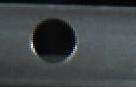holes: (30, 17, 79, 65)
